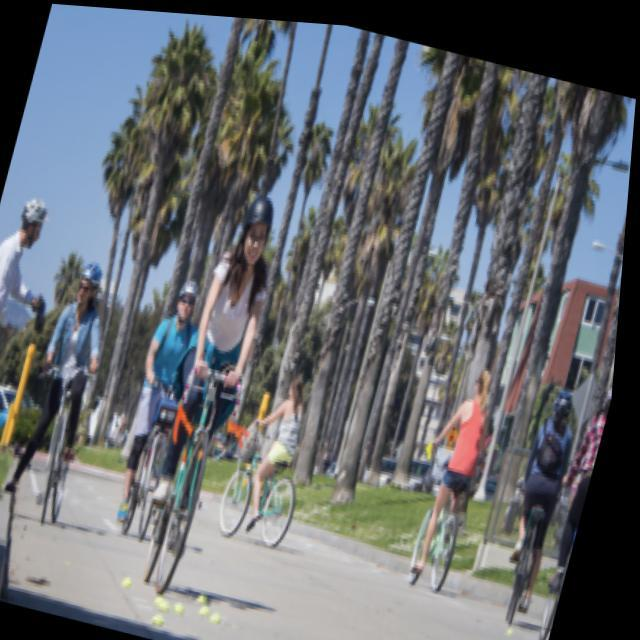Helmet: (232, 187, 276, 272)
